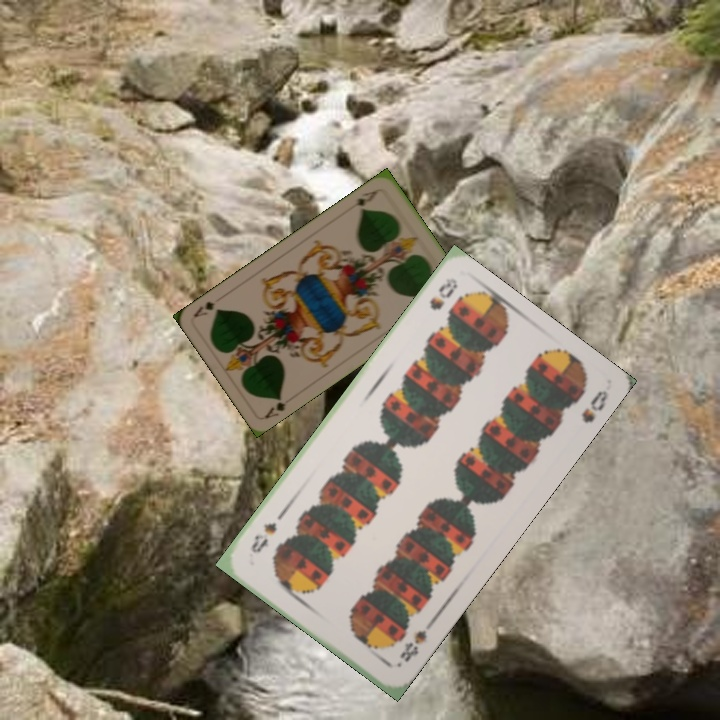GA: (346, 185, 382, 212), (261, 392, 288, 421)
S8: (395, 619, 434, 665), (425, 274, 461, 313)
